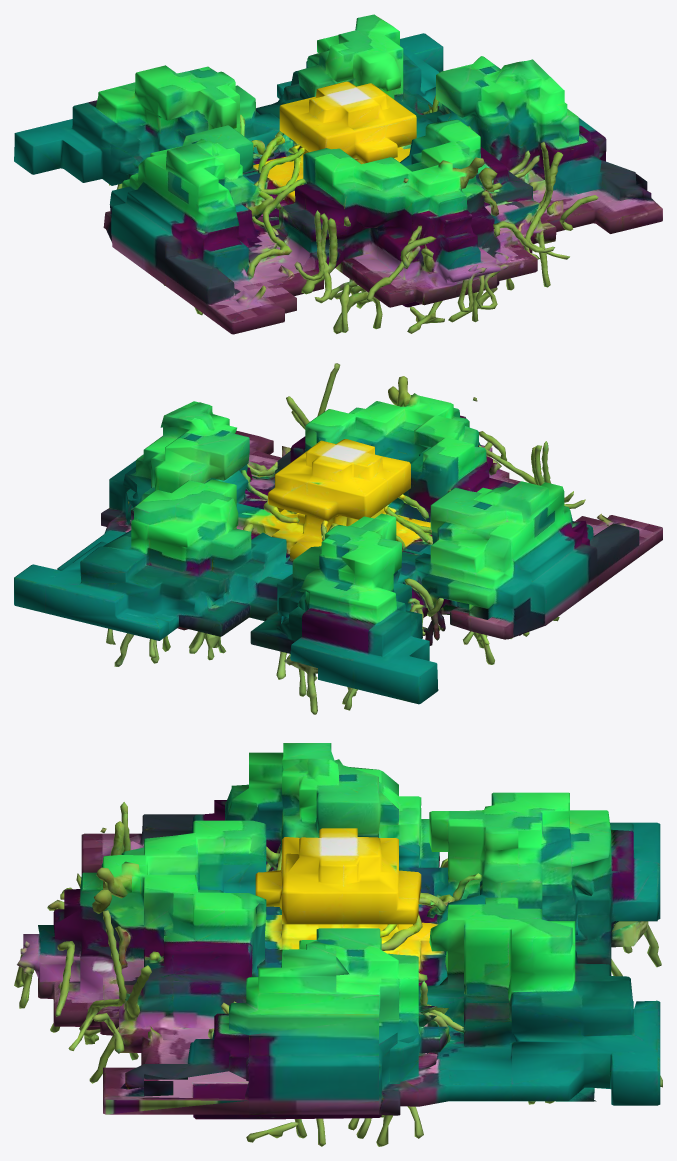
Rendered from weeds.glb.
3 views of the same model, one above another, from view 1: azimuth 30°, elevation 25°; view 2: azimuth 150°, elevation 25°; view 3: azimuth 270°, elevation 25° (orthographic). The views are drawn at different scales.
Bounding box in the file's own units: 1.87 × 0.6693 × 1.91.
1 material, 1 textured.
